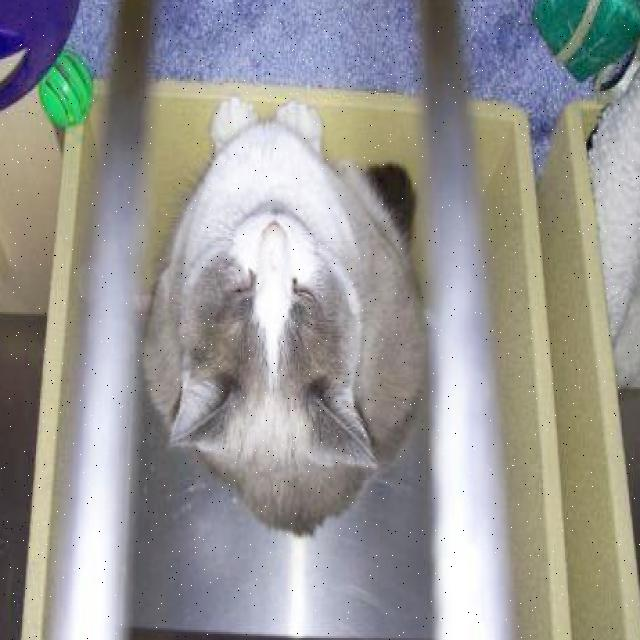Cat: (168, 183, 381, 480)
